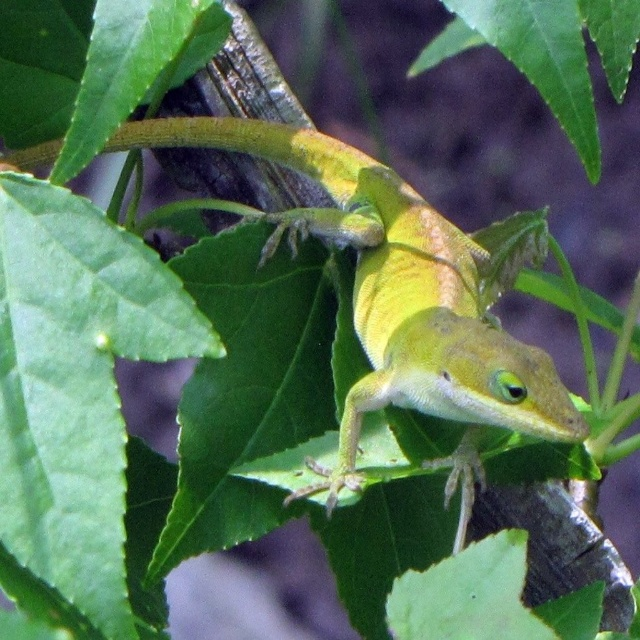Lizard: (2, 87, 593, 495)
